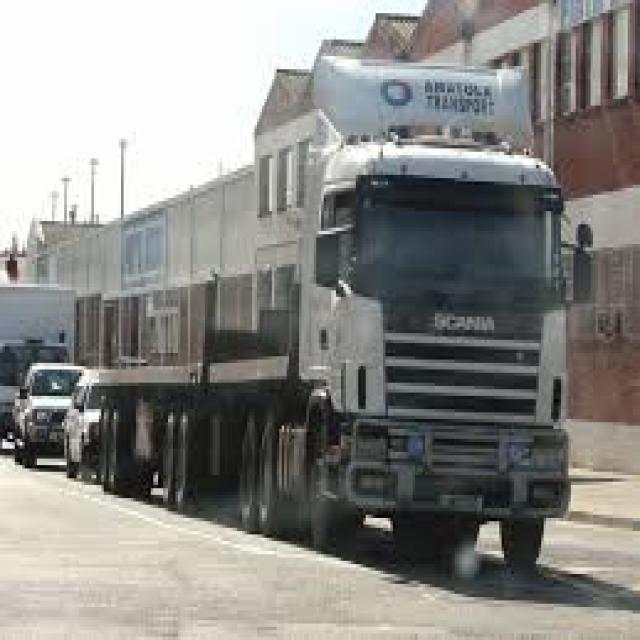Heavy Duty Truck: (96, 66, 593, 597)
